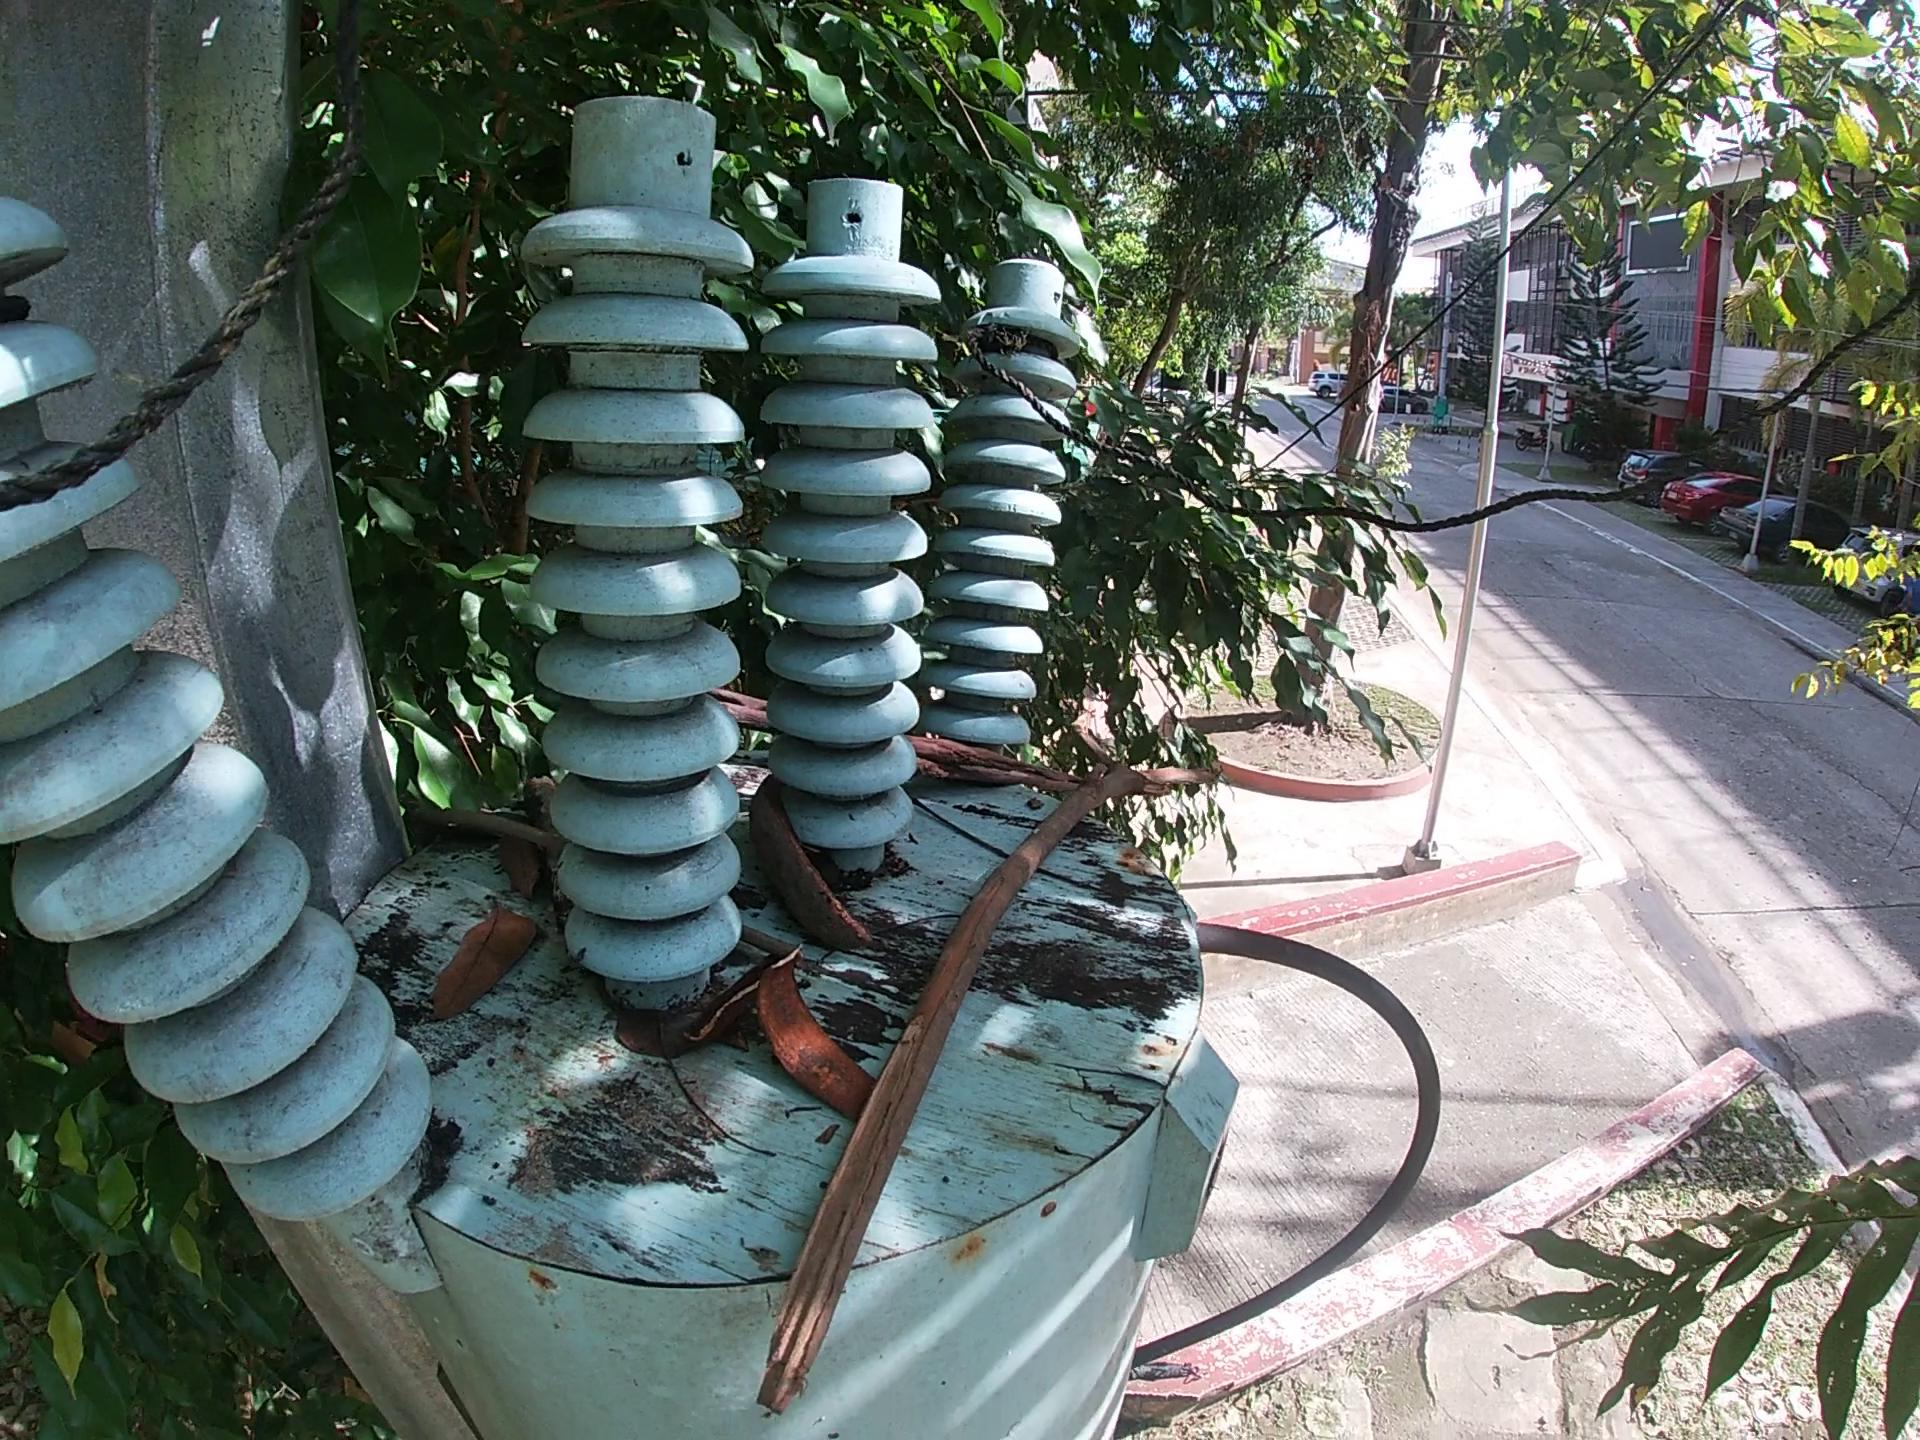leaf: (426, 892, 547, 1026), (606, 995, 712, 1065), (491, 832, 547, 908)
mahogany fruit: (747, 774, 880, 956), (754, 936, 881, 1125), (676, 947, 801, 1051)
tree branch: (744, 715, 1222, 1425), (519, 774, 571, 926), (396, 809, 556, 855), (739, 923, 824, 976)
